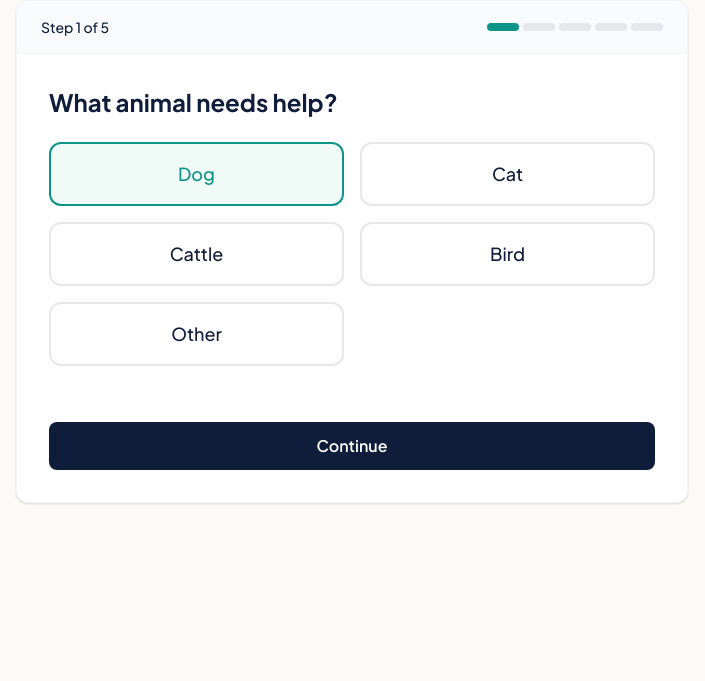
Scenario: ReportRescue Component › allows advancing to Step 2 (Photo Upload)
Click the button "Continue": (352, 446) top-left (49, 422), bottom-right (655, 470)
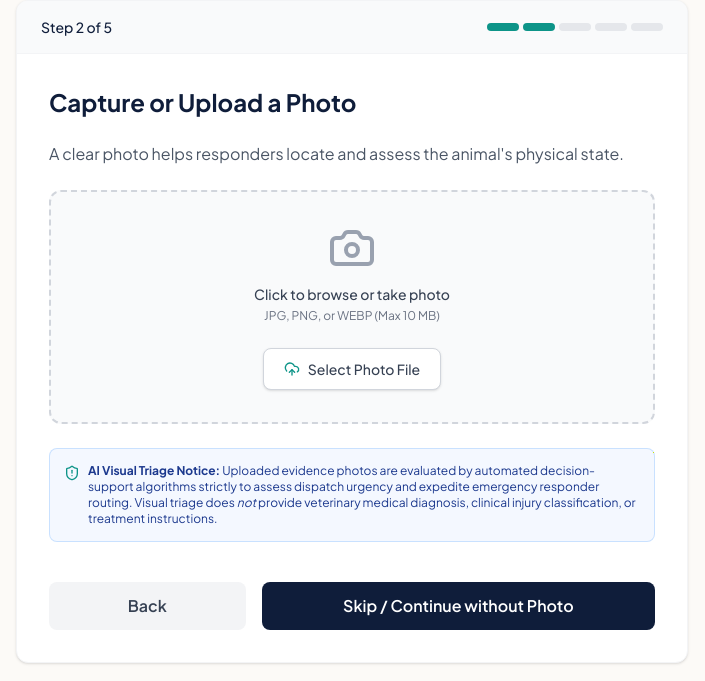
Check: the heading "Capture or Upload a Photo" is shown, box top-left (49, 87), bottom-right (356, 117)
Check: the text "JPG, PNG, or WEBP (Max 10 MB)" is shown, box top-left (264, 308), bottom-right (440, 324)
